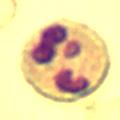neutrophil: (22, 19, 107, 103)
